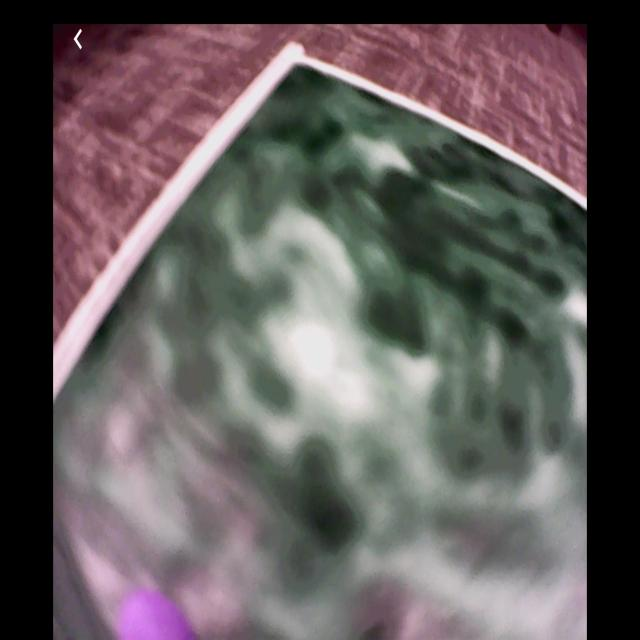ball: (116, 586, 197, 640)
